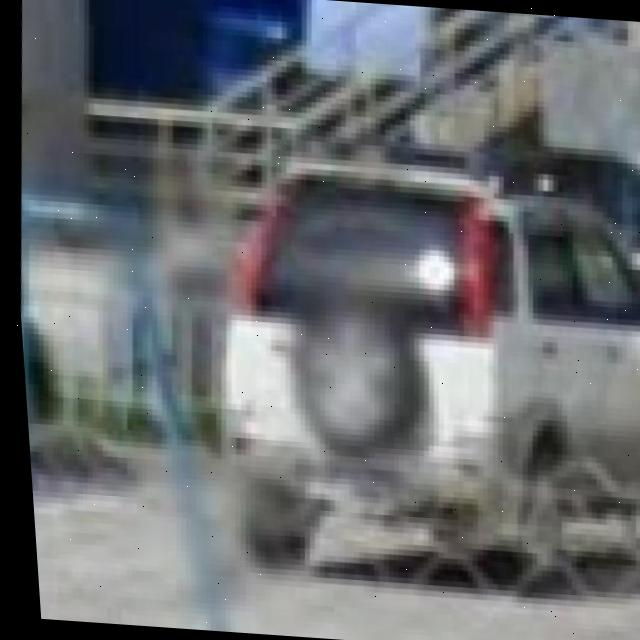vehicle: (191, 148, 640, 608)
